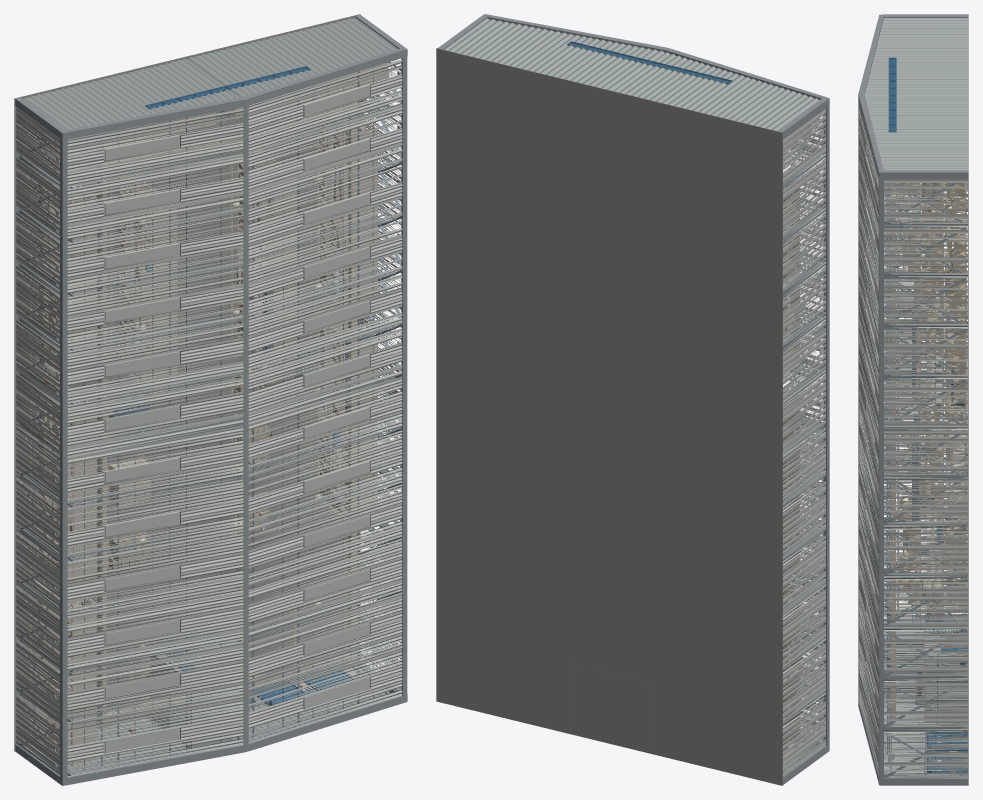
File: warehouse-tour.glb
3 renders of one model, left to right at view 1: azimuth 30°, elevation 25°; view 2: azimuth 150°, elevation 25°; view 3: azimuth 270°, elevation 25°, orthographic. The views are drawn at different scales.
Parts seen in each view (by area): view 1: 03. dinding, 06. lantai, 01. rangka, 04. besi lis, 02. dinding depan, 07. lemari, 09. kardus, 23. KLLNG, 05. gerbang, 08. cat garis, 17. box kayu, 16. kyu 2 (+1 smaller); view 2: 06. lantai, 03. dinding, 02. dinding depan, 04. besi lis, 01. rangka, 07. lemari, 05. gerbang; view 3: 03. dinding, 02. dinding depan, 01. rangka, 09. kardus, 04. besi lis, 07. lemari, 05. gerbang, 11. bungkus plastik, 23. KLLNG, 06. lantai, 15. box besi, 10. bungkus (+2 smaller).
Boxes of the visible parts, box(x1,y1,x2,y2) form: 03. dinding: box(16, 59, 402, 777); 06. lantai: box(14, 14, 360, 751); 01. rangka: box(17, 67, 401, 775); 04. besi lis: box(15, 14, 407, 785); 02. dinding depan: box(23, 17, 397, 775); 07. lemari: box(25, 62, 388, 765); 09. kardus: box(37, 118, 369, 749); 23. KLLNG: box(97, 102, 365, 723); 05. gerbang: box(145, 66, 353, 705); 08. cat garis: box(20, 122, 346, 740); 17. box kayu: box(109, 532, 150, 569); 16. kyu 2: box(109, 459, 150, 506); 06. lantai: box(436, 48, 782, 785); 03. dinding: box(783, 108, 826, 776); 02. dinding depan: box(444, 18, 819, 771); 04. besi lis: box(438, 14, 829, 784); 01. rangka: box(783, 120, 824, 773); 07. lemari: box(783, 126, 810, 757); 05. gerbang: box(567, 41, 732, 84); 03. dinding: box(859, 104, 967, 778); 02. dinding depan: box(864, 18, 967, 777); 01. rangka: box(860, 132, 967, 777); 09. kardus: box(899, 183, 966, 618); 04. besi lis: box(858, 14, 967, 785); 07. lemari: box(897, 183, 967, 620); 05. gerbang: box(888, 57, 967, 772); 11. bungkus plastik: box(904, 183, 964, 619); 23. KLLNG: box(867, 165, 896, 718); 06. lantai: box(968, 14, 968, 785); 15. box besi: box(912, 310, 919, 520); 10. bungkus: box(907, 183, 964, 603).
Bounding box in the file's own units: 17.32 × 31.32 × 5.09.
